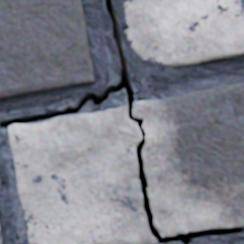brick: (0, 0, 94, 100), (124, 0, 243, 67), (0, 226, 3, 243)
broken_brick: (9, 105, 157, 243), (132, 84, 243, 236)
crack: (0, 0, 241, 243)
